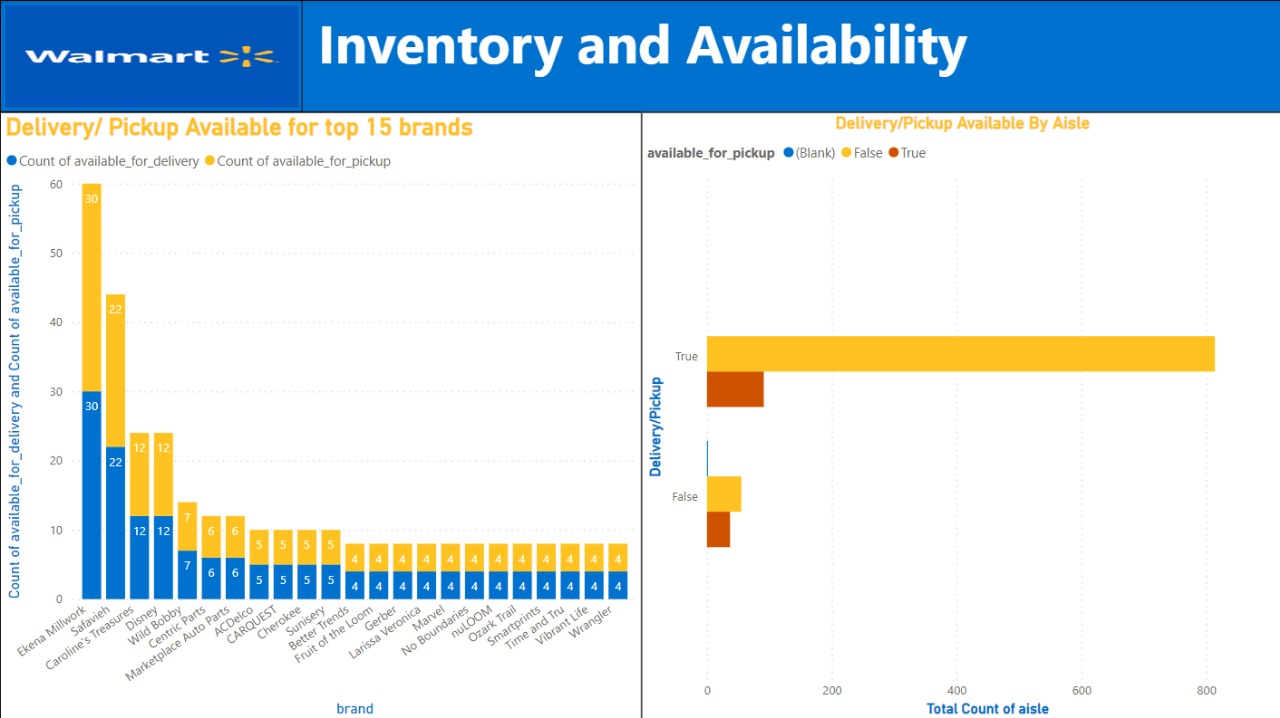

What the dashboard file says about the page in this screenshot:
{"tool":"powerbi","page":{"name":"Inventory and Availability","canvas":[1280,720],"ordinal":2},"visuals":[{"type":"columnChart","title":"Delivery/ Pickup Available for top 15 brands ","fields":{"Category":["Walmart products dataset.brand"],"Y":["Walmart products dataset.available_for_delivery","Walmart products dataset.available_for_pickup"]},"box":[0,111.7,640,608.3],"z":0},{"type":"textbox","box":[0,0,1280,111.7],"z":500},{"type":"clusteredBarChart","title":"Delivery/Pickup Available By Aisle","fields":{"Category":["Walmart products dataset.available_for_delivery"],"Series":["Walmart products dataset.available_for_pickup"],"Y":["Walmart products dataset.aisle"]},"box":[640,111.7,640,608.3],"z":1000},{"type":"image","box":[0,0,301.7,111.7],"z":3000}]}

Visuals, with their boxes in screenshot pixels (x1, y1, x2, y2), scaled from the page's 1280x720 canvas onto the 1280x718 screenshot:
"Delivery/ Pickup Available for top 15 brands " columnChart: pyautogui.locateOnScreen(0, 111, 640, 717)
textbox: pyautogui.locateOnScreen(0, 0, 1279, 111)
"Delivery/Pickup Available By Aisle" clusteredBarChart: pyautogui.locateOnScreen(640, 111, 1279, 717)
image: pyautogui.locateOnScreen(0, 0, 302, 111)
